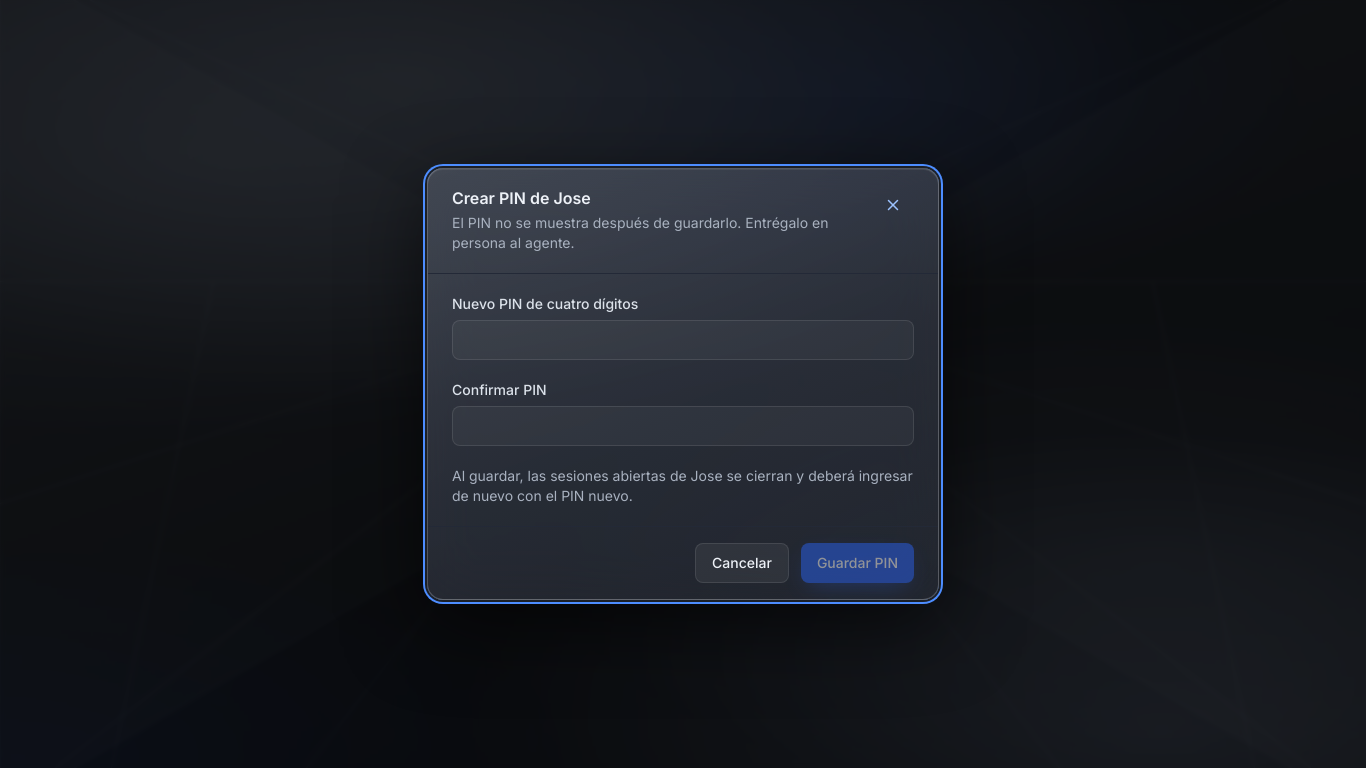
Test: two different PINs are not saved
The image size is (1366, 768).
In the password field labelled "Nuevo PIN de cuatro dígitos": coordinates (683, 340) [452, 320, 914, 360], type "1234"
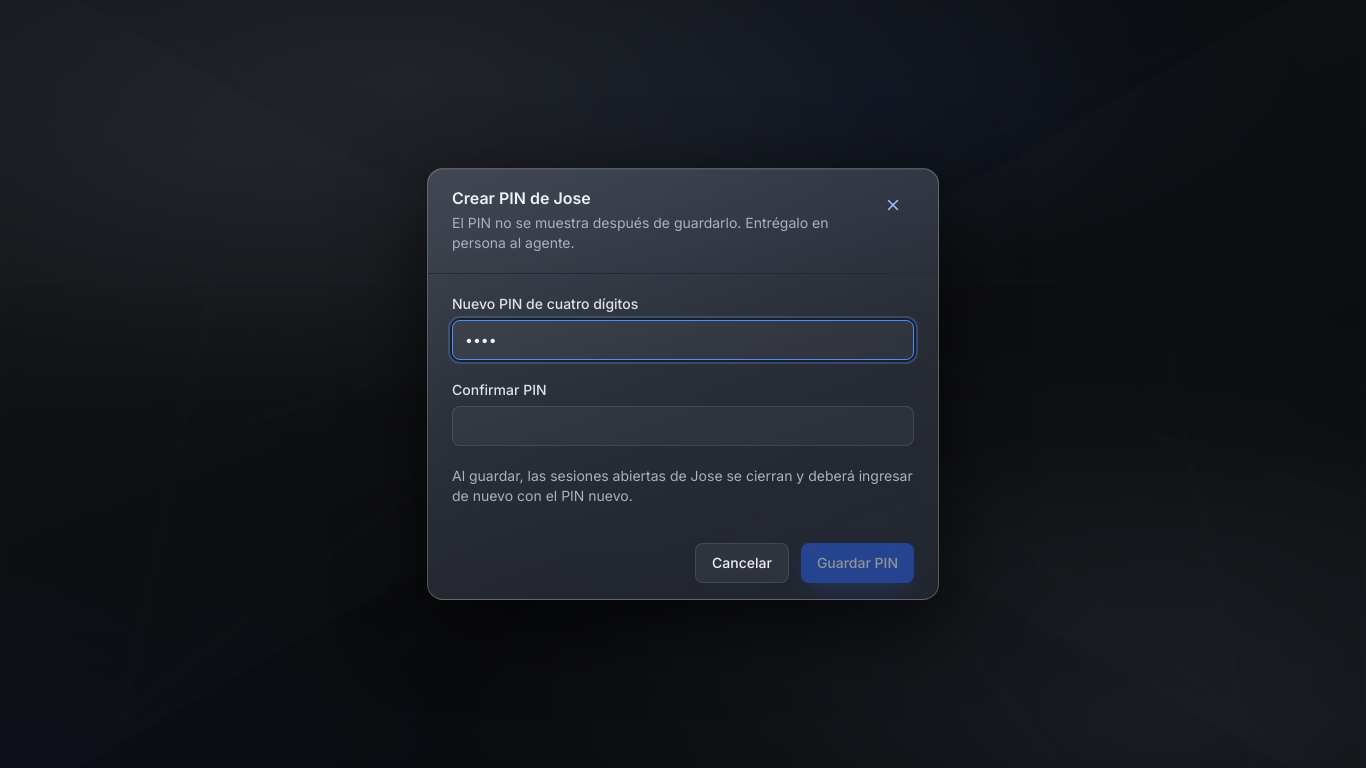
In the password field labelled "Confirmar PIN": coordinates (683, 426) [452, 406, 914, 446], type "4321"
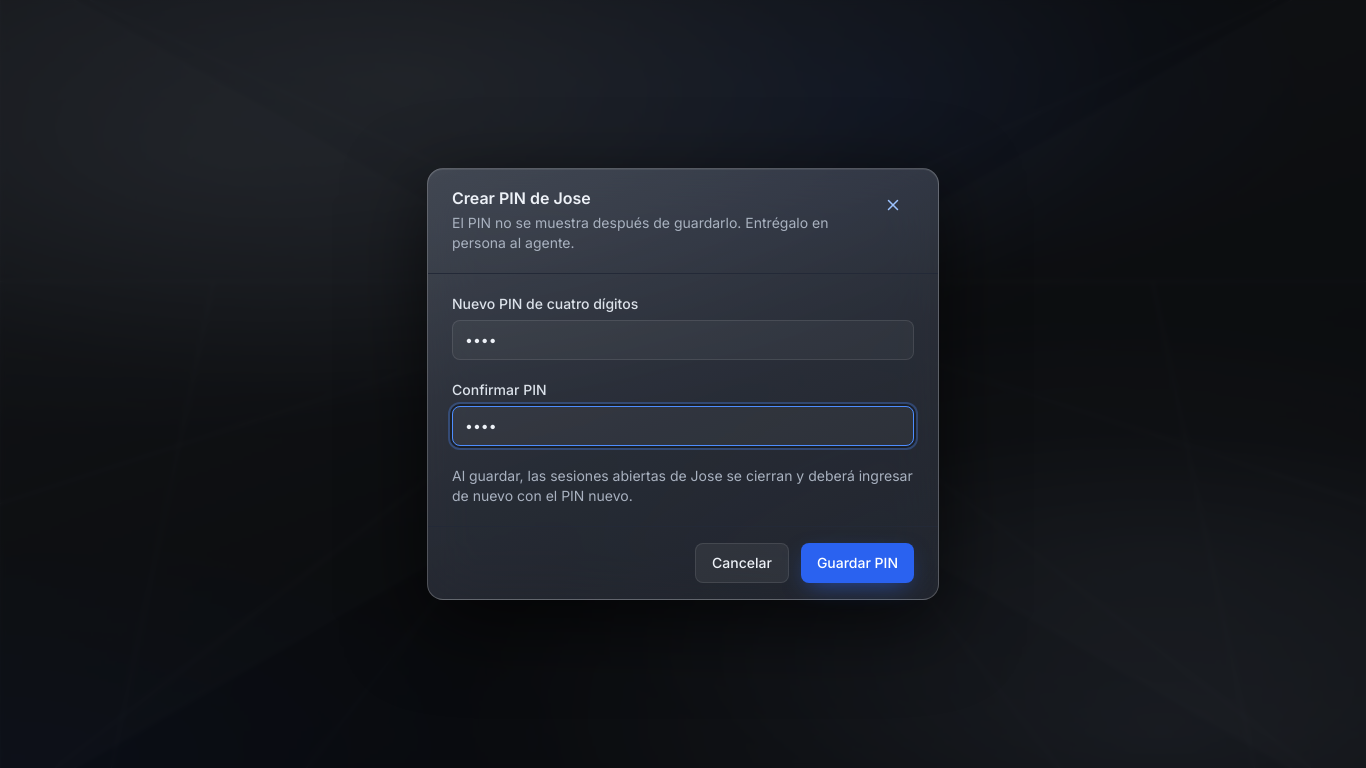
Click the button "Guardar PIN": coordinates (857, 563) [801, 543, 914, 583]
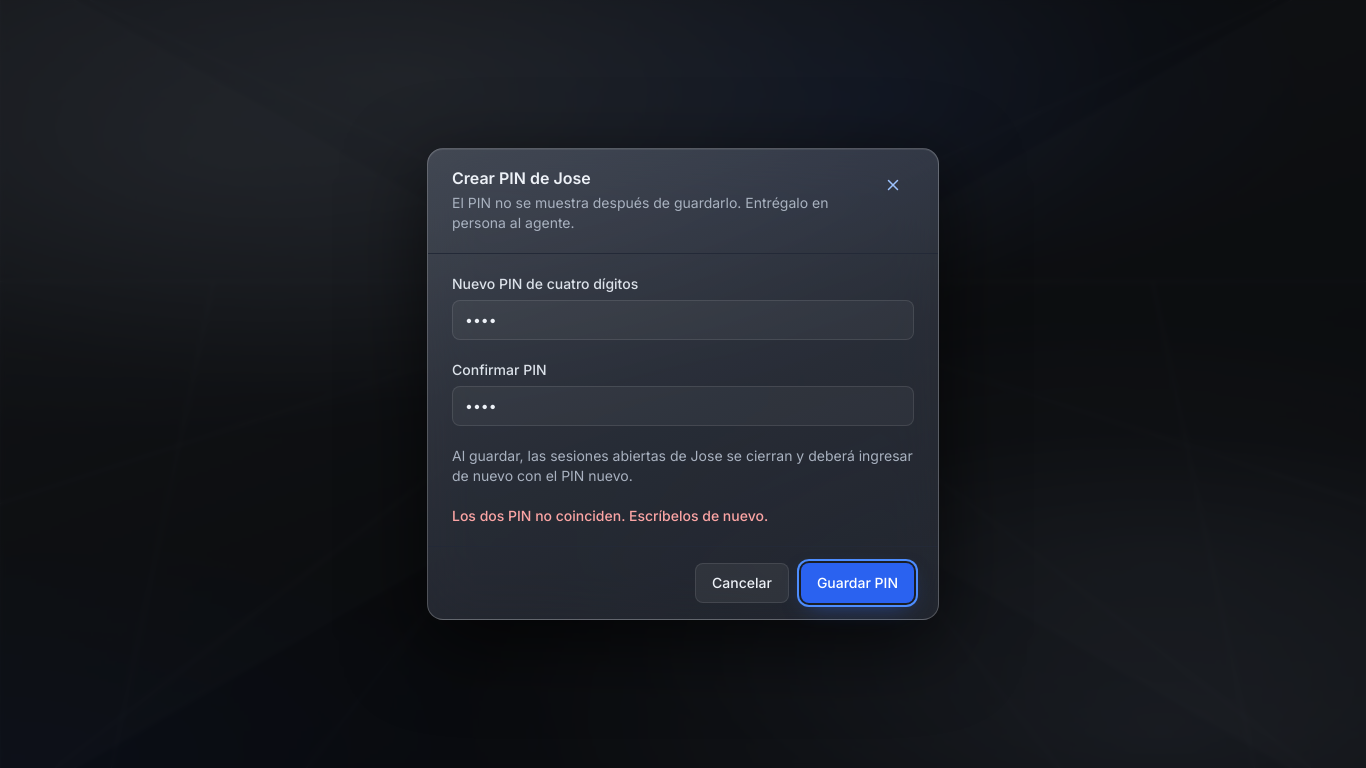
Result: the message shows "no coinciden" at [452, 507, 768, 524]
